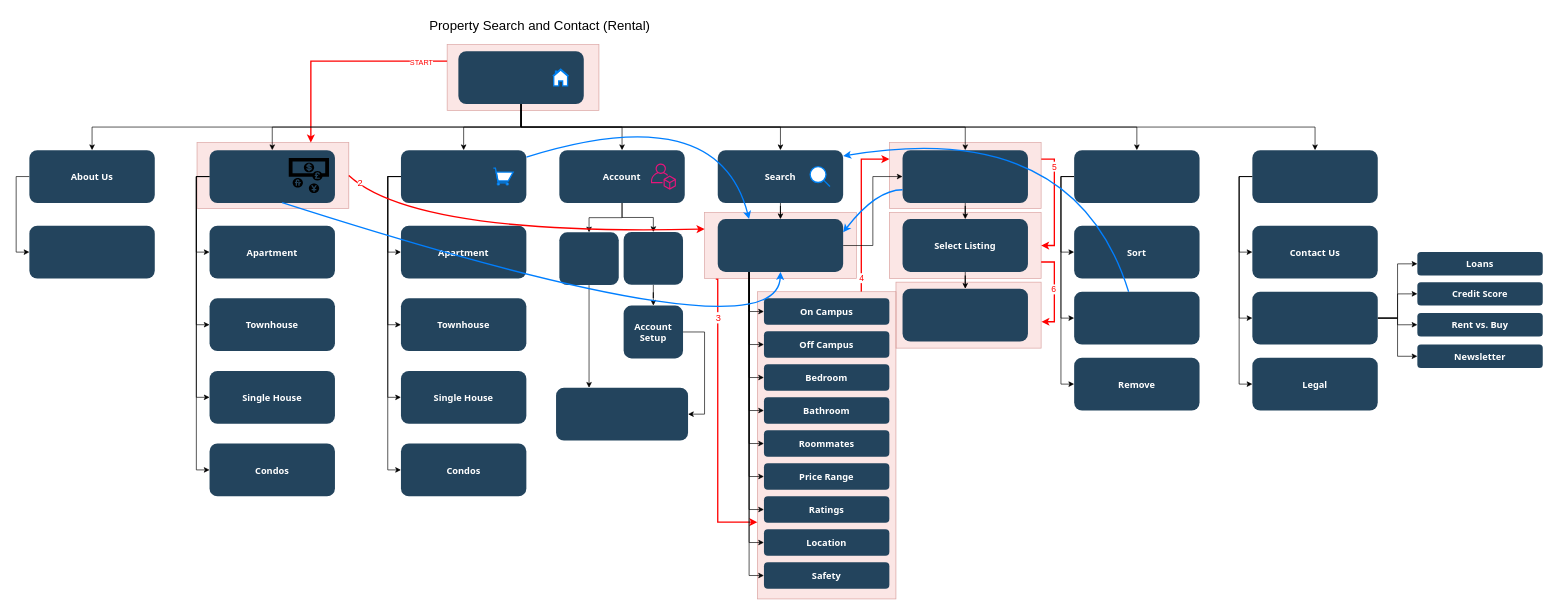
Some shapes in this 1554 by 611 pixel diagram are drawn without their labels. Each missing label, with the box of its shape:
Add: (1074, 291, 1199, 344)
Browse Listings: (902, 150, 1028, 203)
Buy: (401, 150, 526, 203)
Contact Seller: (902, 288, 1028, 341)
Create Account: (623, 232, 683, 284)
Edit Account Info: (556, 387, 688, 440)
FAQ: (1252, 291, 1377, 344)
Filter: (717, 219, 843, 272)
Help: (1252, 150, 1377, 203)
Homepage: (458, 51, 583, 104)
Log In: (559, 232, 618, 285)
Our History: (29, 225, 154, 278)
Rent: (209, 150, 335, 203)
Saved: (1074, 150, 1199, 203)
